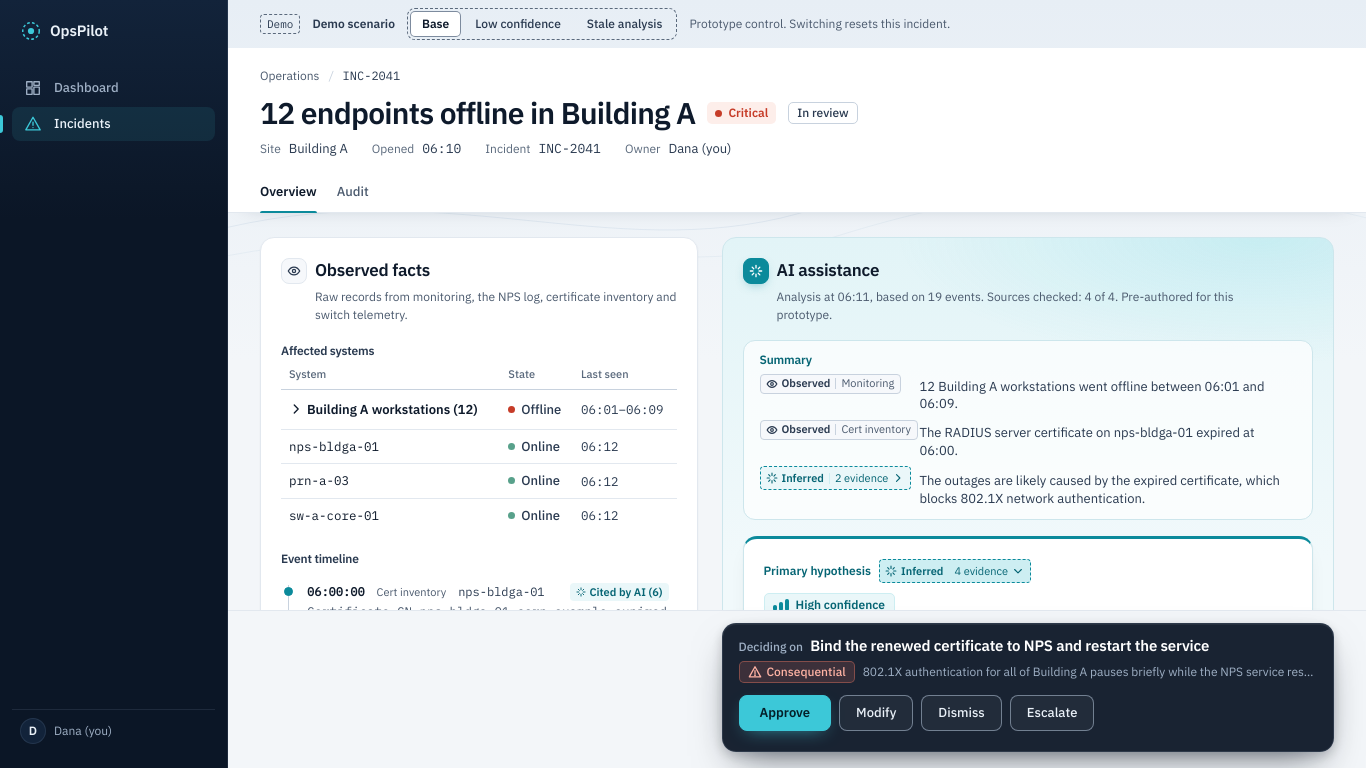
Low confidence: analysis and facts › shows the missing NPS log as a factual availability notice in Observed facts, and excludes its events
Click the button "Low confidence": (518, 24) [463,11,573,37]
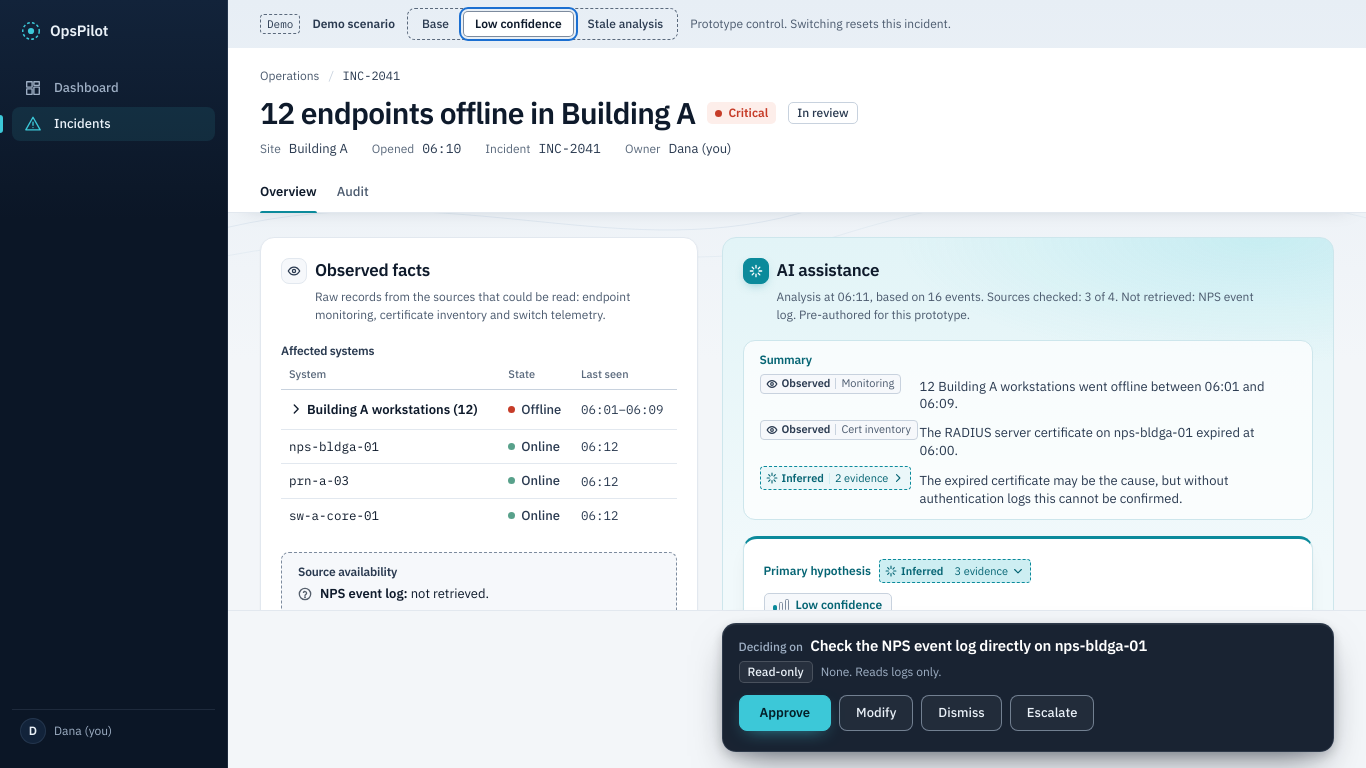
Expected: the text "EAP-TLS handshake" is not shown
Now the heading "Source availability" is shown, box [298,564,397,579]
Now the list item "NPS event log:" reads "NPS event log: not retrieved.", box [298,585,489,602]
